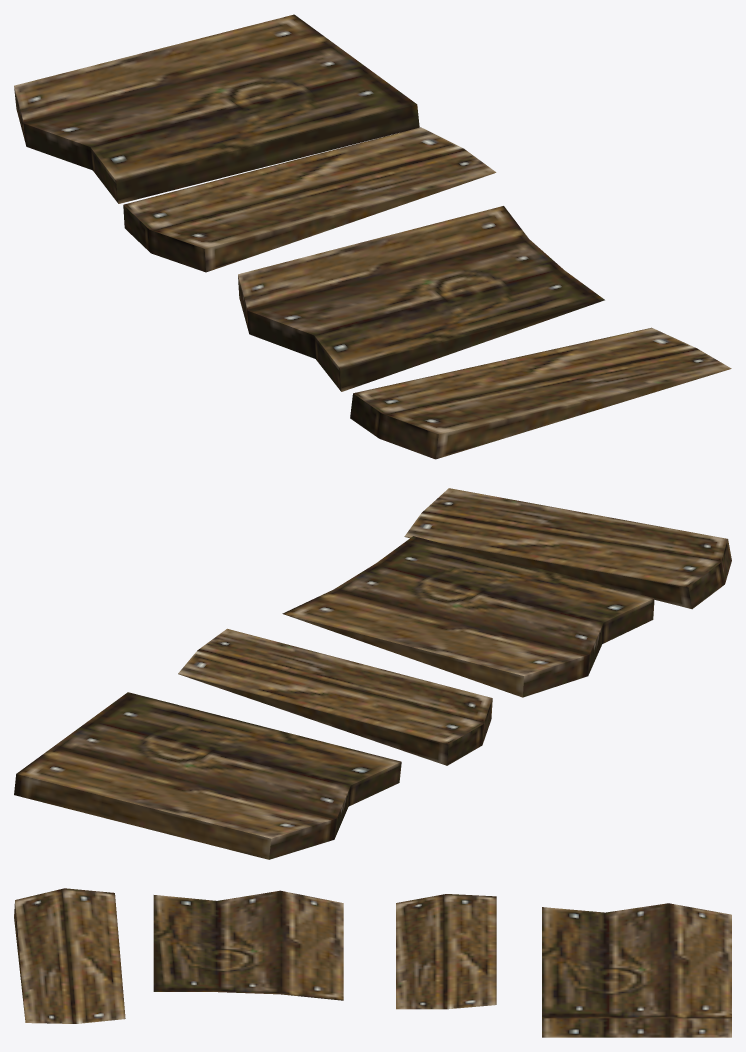
File: 7001_Item_wujian_14.FBX
The picture shows the model from 3 angles, top to bottom: view 1: azimuth 30°, elevation 25°; view 2: azimuth 150°, elevation 25°; view 3: azimuth 270°, elevation 25°; orthographic projection. The views are drawn at different scales.
Visible parts, largest first — view 1: 7001_Item_wujian_14; view 2: 7001_Item_wujian_14; view 3: 7001_Item_wujian_14.
Part boxes in pixels (left/top/right/bottom): 7001_Item_wujian_14: left=14, top=14, right=731, bottom=459; 7001_Item_wujian_14: left=14, top=488, right=731, bottom=859; 7001_Item_wujian_14: left=14, top=888, right=731, bottom=1037.
Size of the model in its own units: 61.28 by 5.41 by 141.
